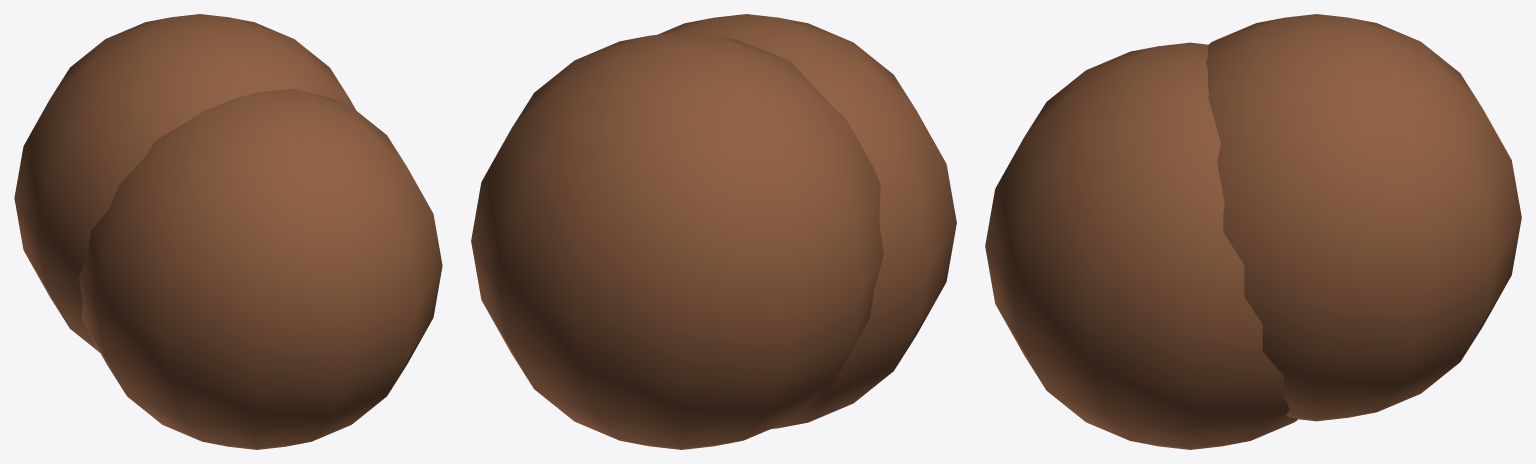
Rendered from tail_bear.glb.
3 views of the same model, side by side, from view 1: azimuth 30°, elevation 25°; view 2: azimuth 150°, elevation 25°; view 3: azimuth 270°, elevation 25° (orthographic). The views are drawn at different scales.
Size of the model in its own units: 0.26 by 0.28 by 0.34.
